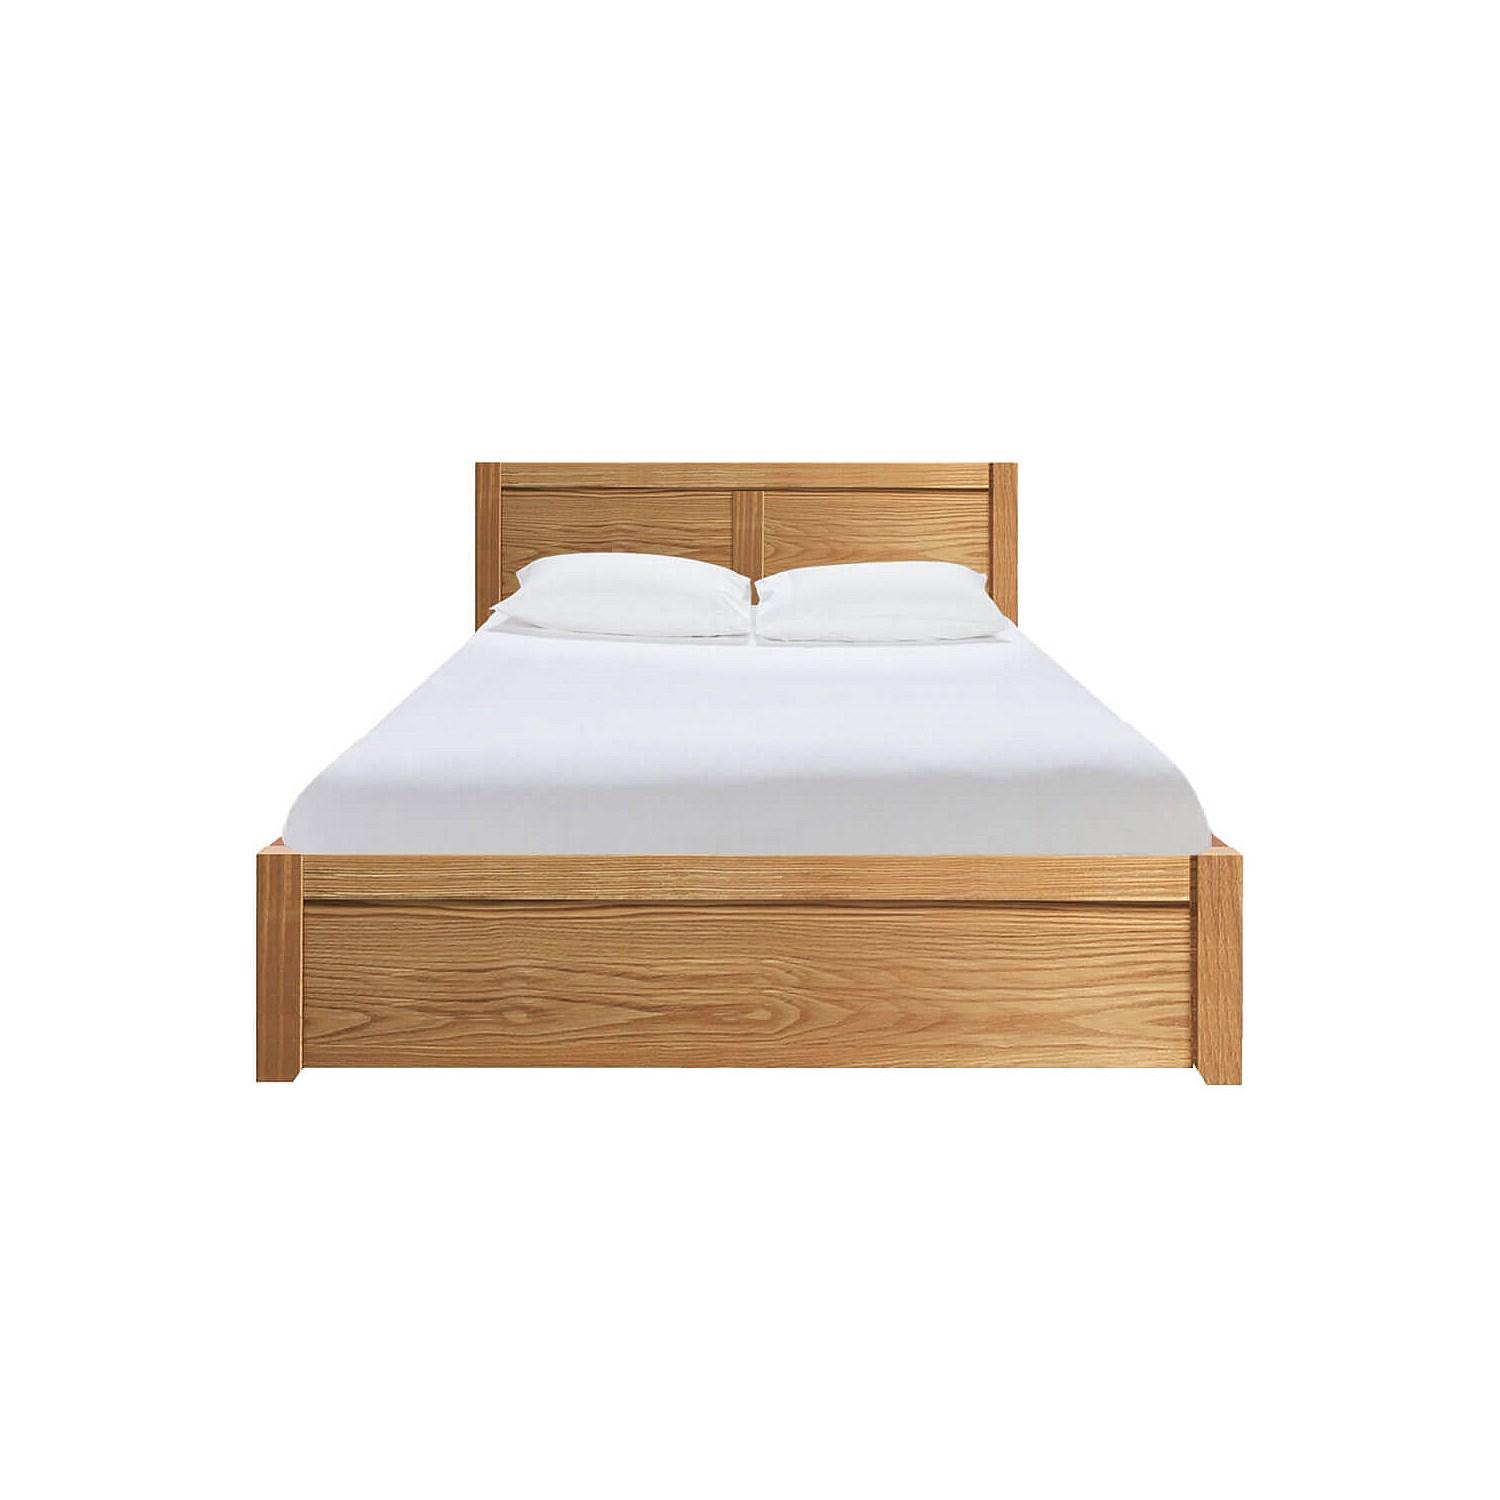bed: (260, 404, 1330, 1103)
